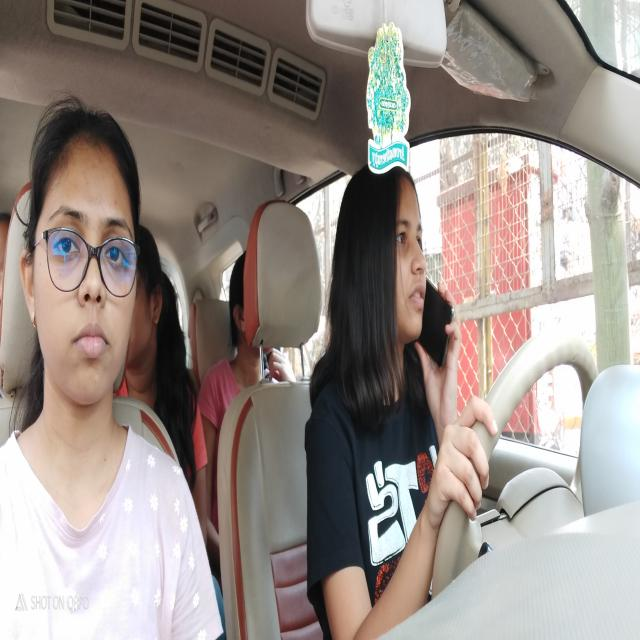mobile: (420, 274, 456, 374)
person: (25, 97, 140, 440), (331, 156, 425, 397), (129, 218, 165, 384), (225, 240, 256, 372)
